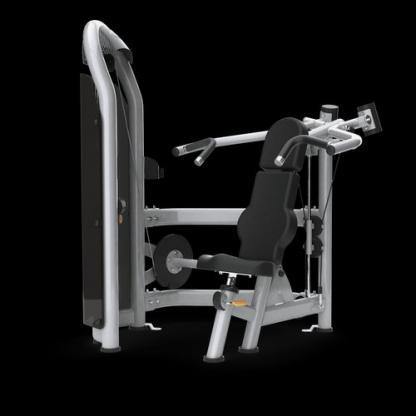shoulder press machine: (83, 15, 384, 365)
